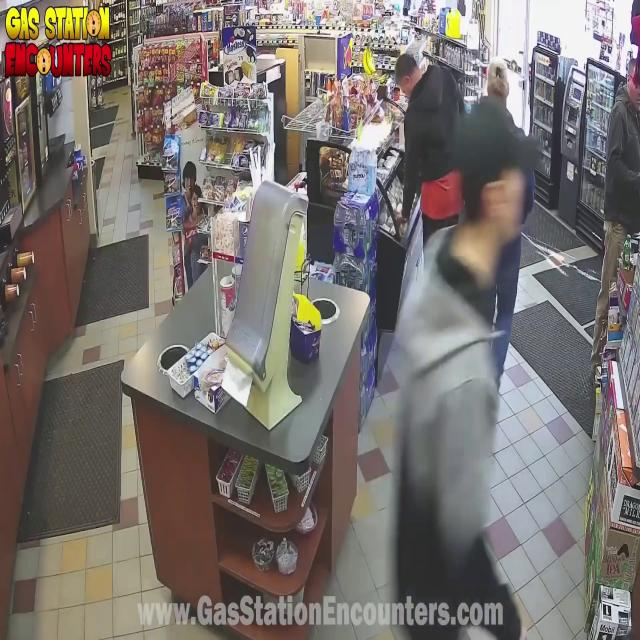normal: (380, 122, 558, 640), (591, 31, 640, 380), (390, 8, 452, 142)
